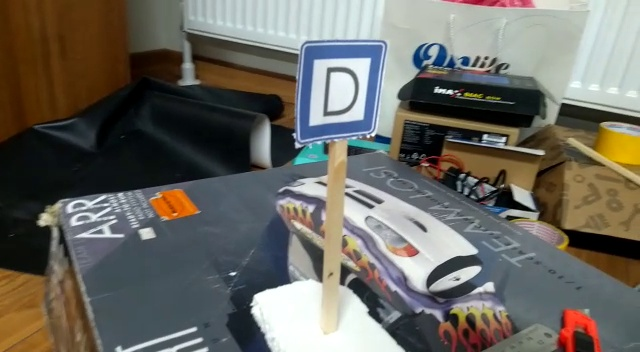durak: (302, 53, 371, 138)
